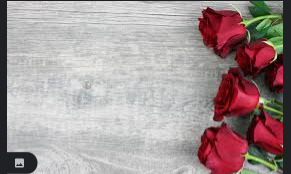RedRose: (198, 6, 250, 57), (199, 122, 247, 174), (212, 70, 260, 121), (237, 40, 280, 76)
